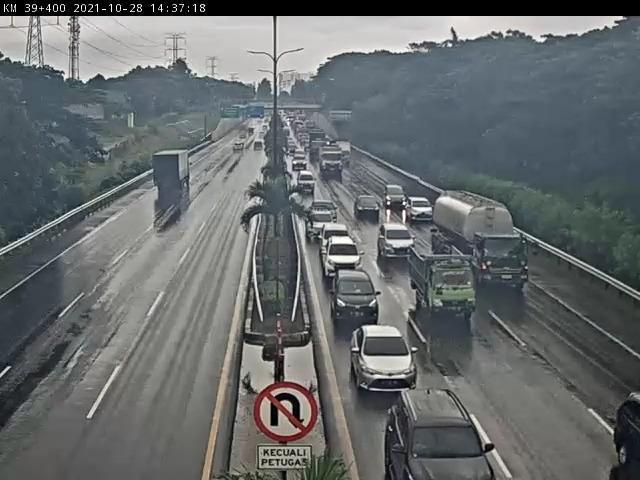car: (377, 391, 507, 480), (349, 330, 430, 389), (330, 274, 390, 325), (612, 386, 640, 475), (377, 222, 421, 264), (323, 235, 365, 279), (347, 191, 387, 229), (313, 223, 362, 253), (312, 205, 347, 239), (380, 182, 408, 216), (404, 199, 438, 223), (296, 171, 320, 203), (291, 155, 313, 176)
truck: (440, 194, 539, 293), (404, 242, 480, 324), (150, 150, 196, 197), (318, 146, 346, 181)
